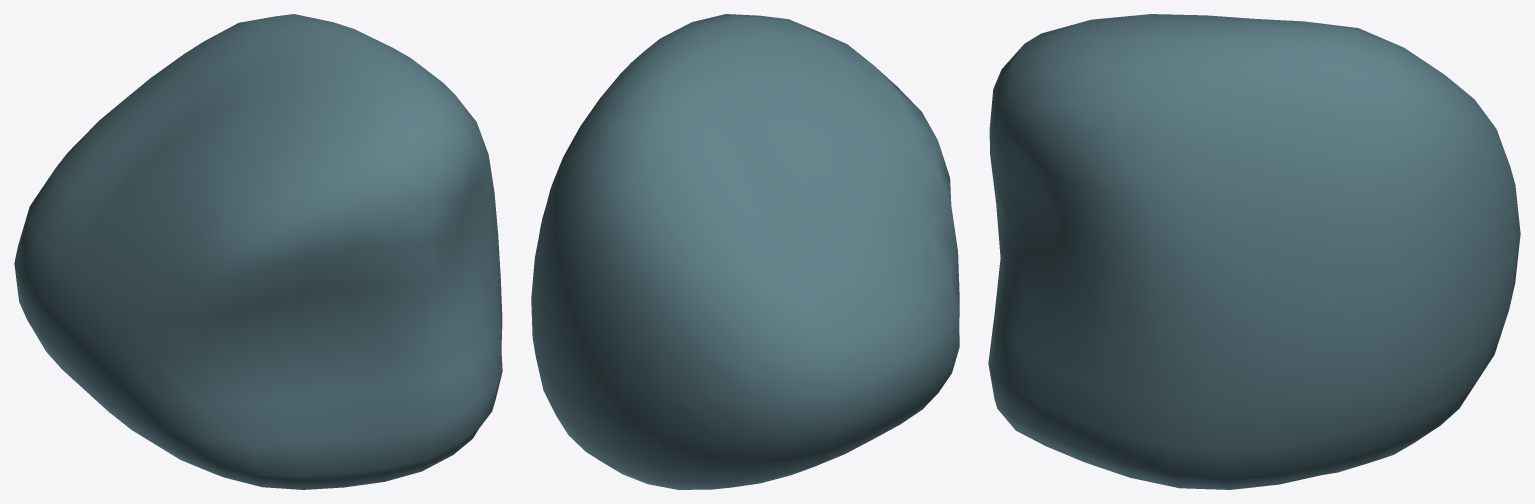
The model's file is Rock_C_02.fbx.
3 renders of one model, left to right at view 1: azimuth 30°, elevation 25°; view 2: azimuth 150°, elevation 25°; view 3: azimuth 270°, elevation 25°, orthographic. The views are drawn at different scales.
Visible parts, largest first — view 1: Rock_C_02_LOD0; view 2: Rock_C_02_LOD0; view 3: Rock_C_02_LOD0.
Boxes of the visible parts, <box> form: Rock_C_02_LOD0: <box>14,14,502,489</box>; Rock_C_02_LOD0: <box>531,14,959,489</box>; Rock_C_02_LOD0: <box>988,14,1520,489</box>.
Size of what is drawn, in the model's own units: 376 by 348 by 401.
